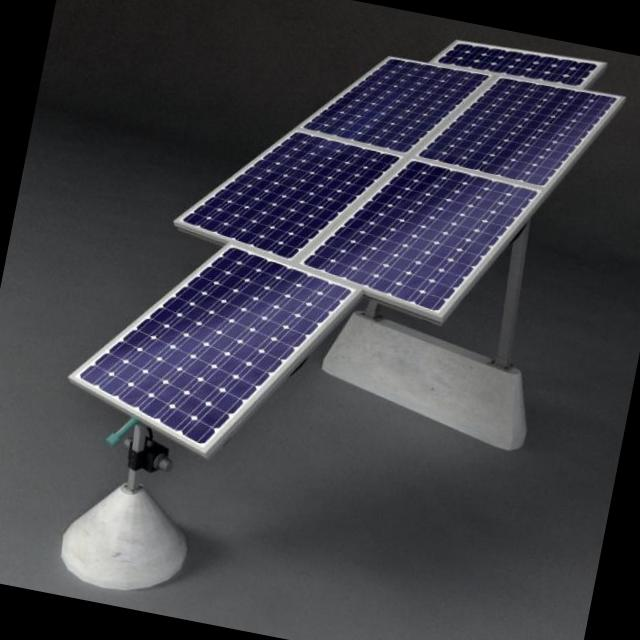no faulty: (87, 247, 348, 440), (314, 164, 533, 309), (188, 129, 395, 255), (427, 81, 615, 181), (302, 61, 479, 148)
